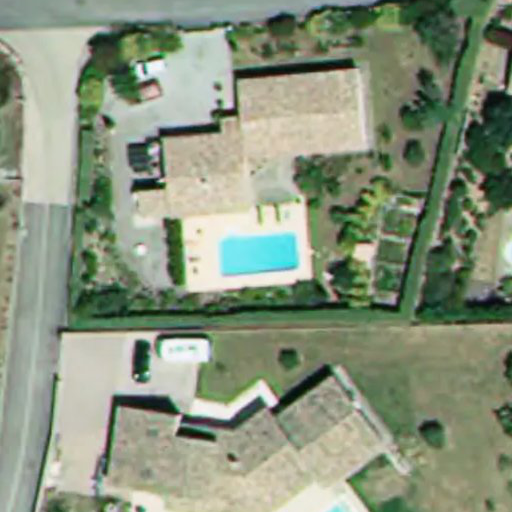pool: (209, 216, 300, 262)
